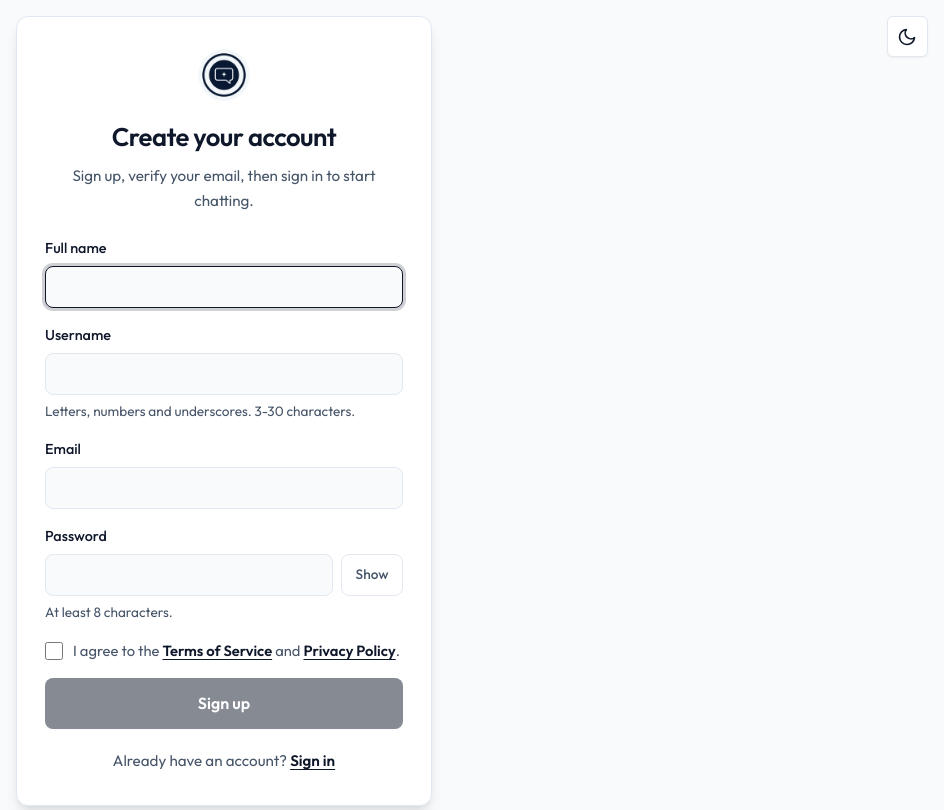
Scenario: sign up › keeps Sign up disabled until the terms box is ticked
In the field labelled "Full name": (224, 287) [45, 266, 403, 308], type "Ayesha Khan"
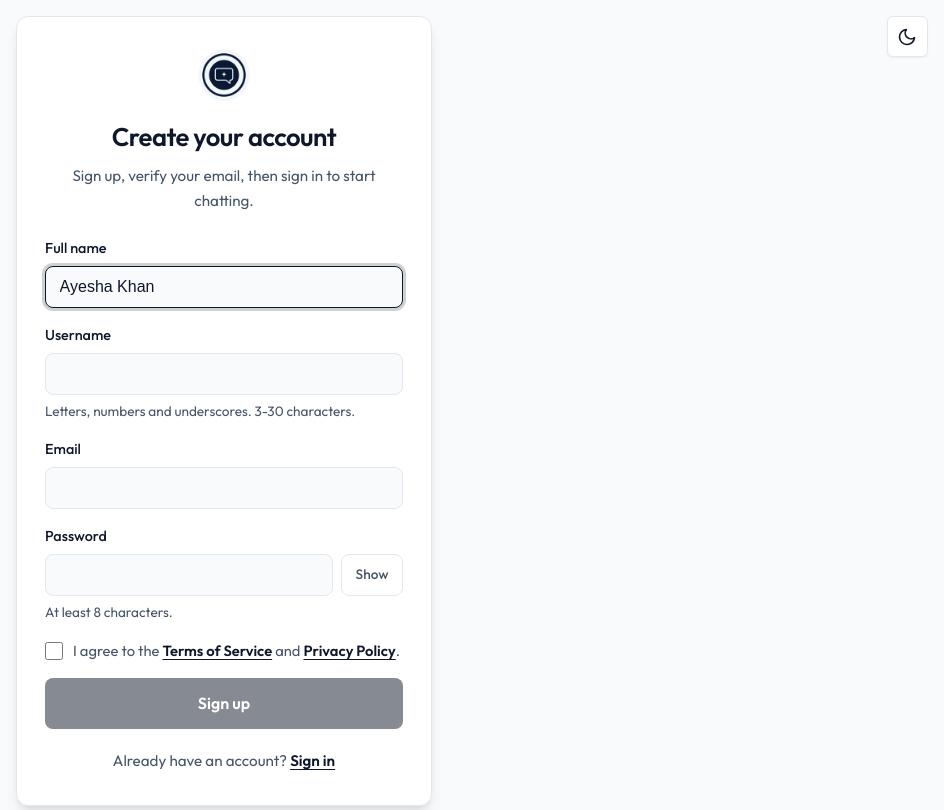
In the field labelled "Username": (224, 374) [45, 353, 403, 395], type "ayesha"
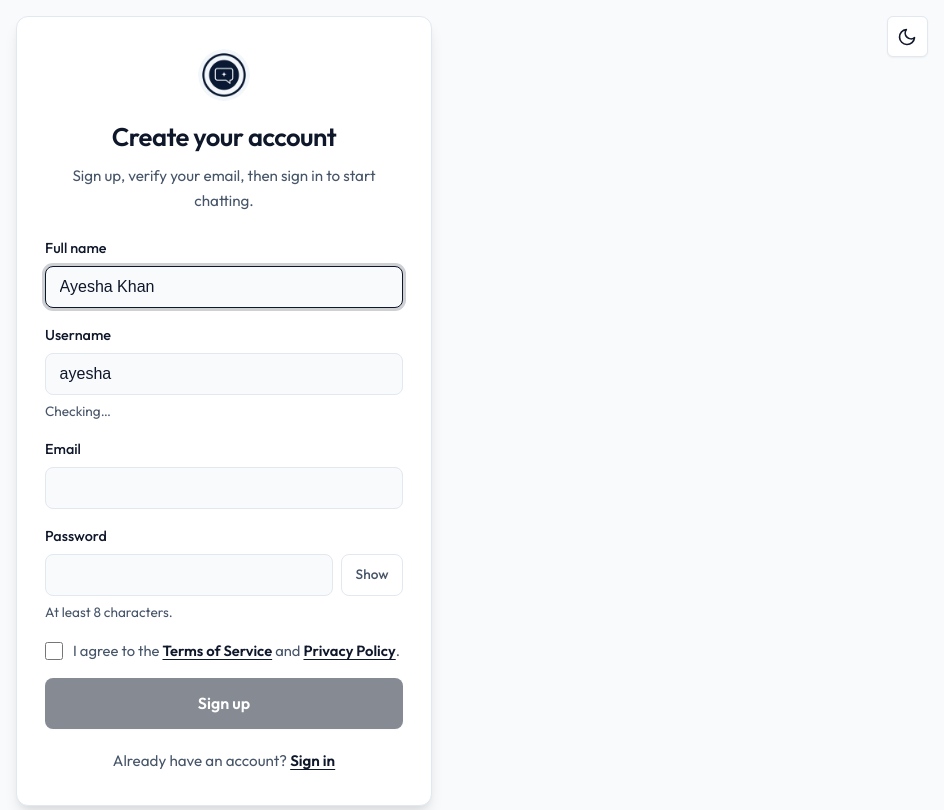
In the field labelled "Email": (224, 488) [45, 467, 403, 509], type "a@example.com"
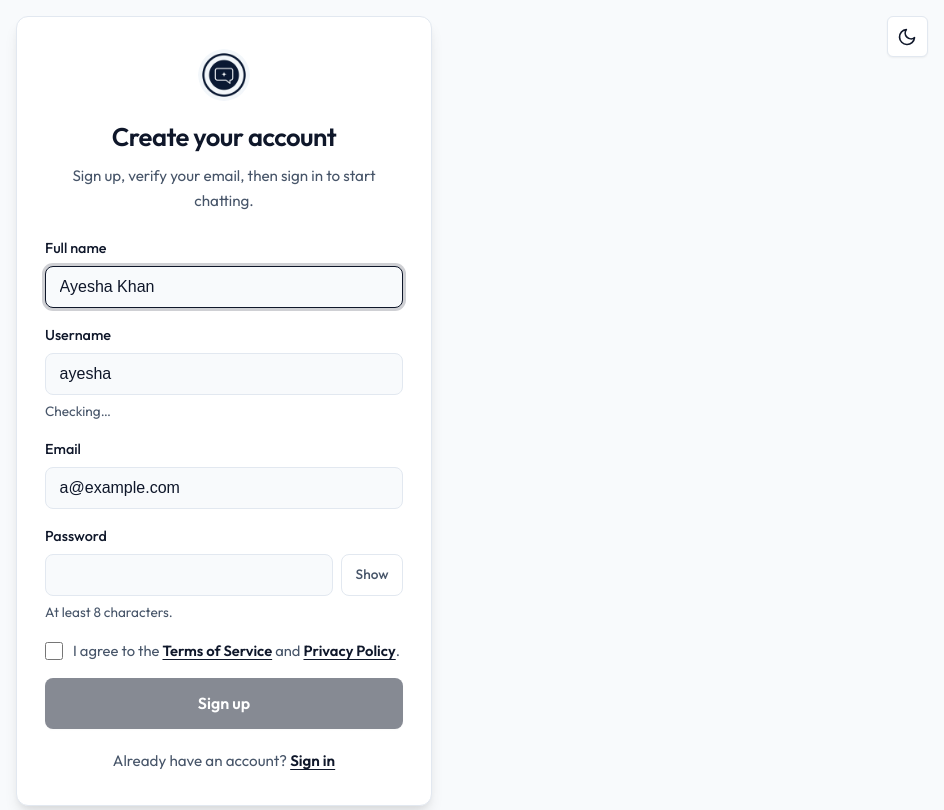
In the password field labelled "Password": (189, 575) [45, 554, 333, 596], type "secret-pass-1"
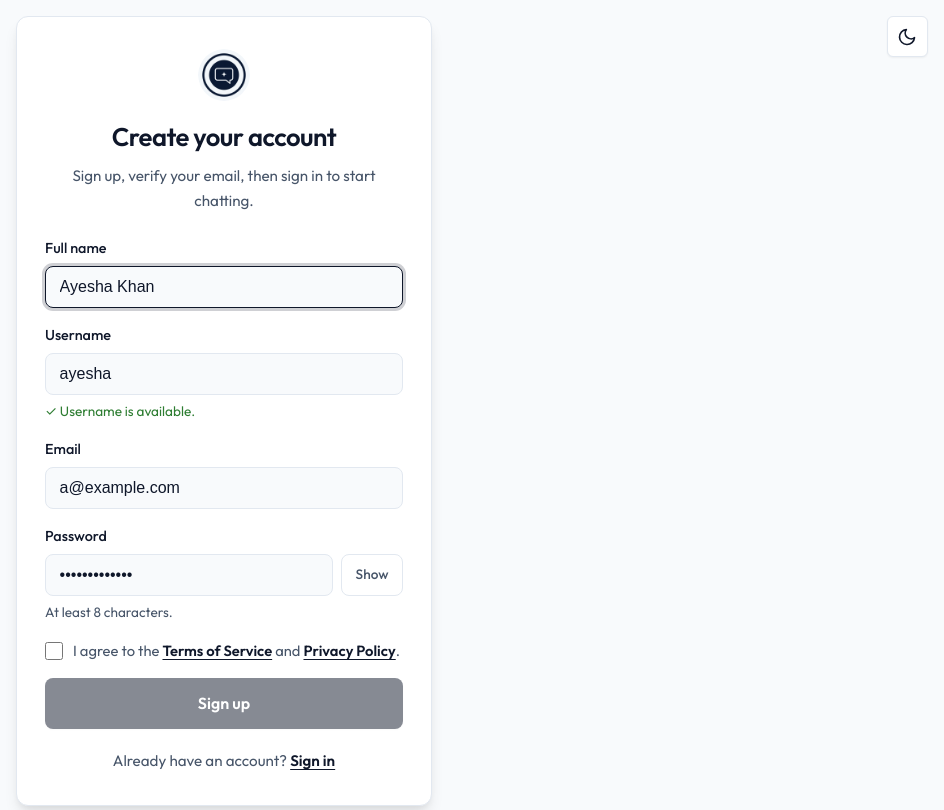
Expected: the button "Sign up" is disabled, [45, 678, 403, 729]
Result: the text "✓ Username is available." is shown at [45, 402, 195, 420]
Click the checkbox labelled "I agree to the Terms of Service and Privacy Policy .": click(54, 651) [45, 642, 63, 660]
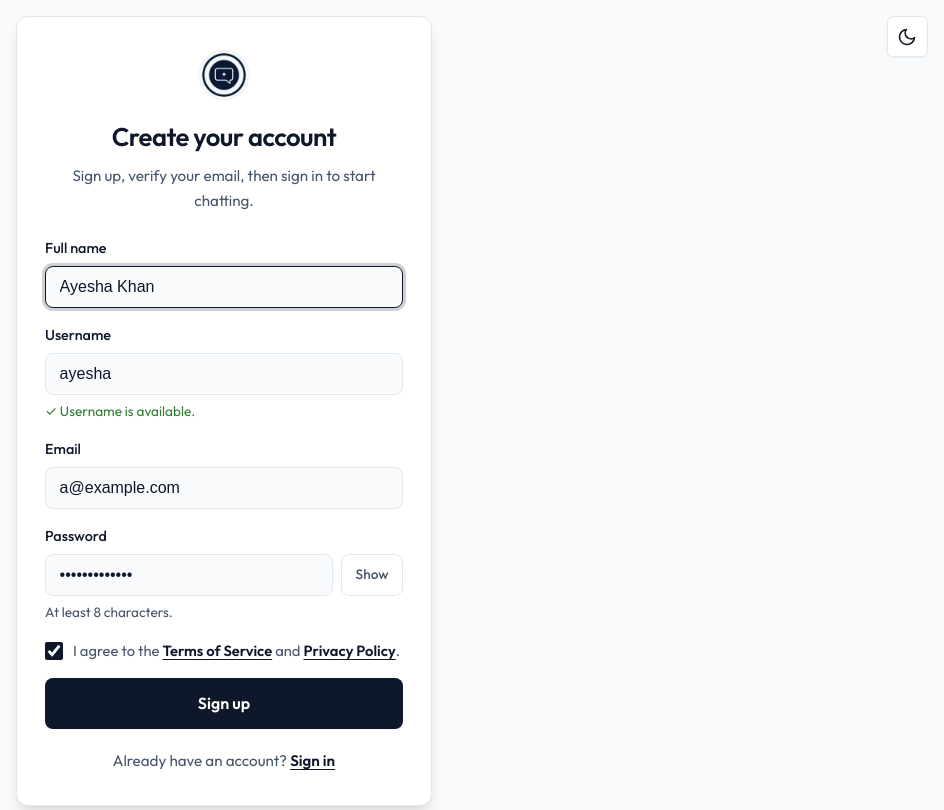
Result: the button "Sign up" is enabled at [45, 678, 403, 729]
